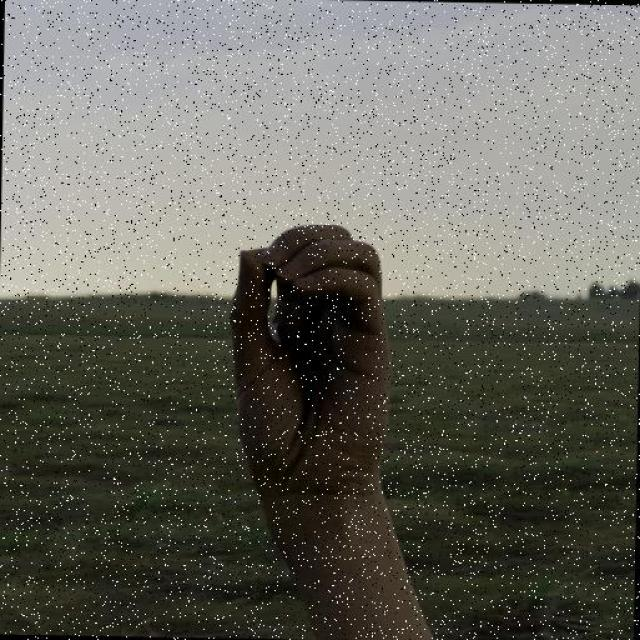O: (224, 218, 406, 548)
